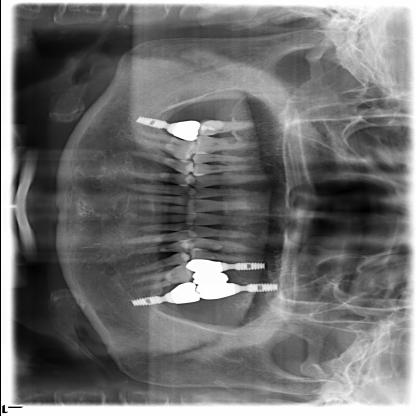Bicon: (132, 114, 168, 132), (242, 280, 283, 295), (127, 294, 164, 310), (232, 259, 270, 273)
